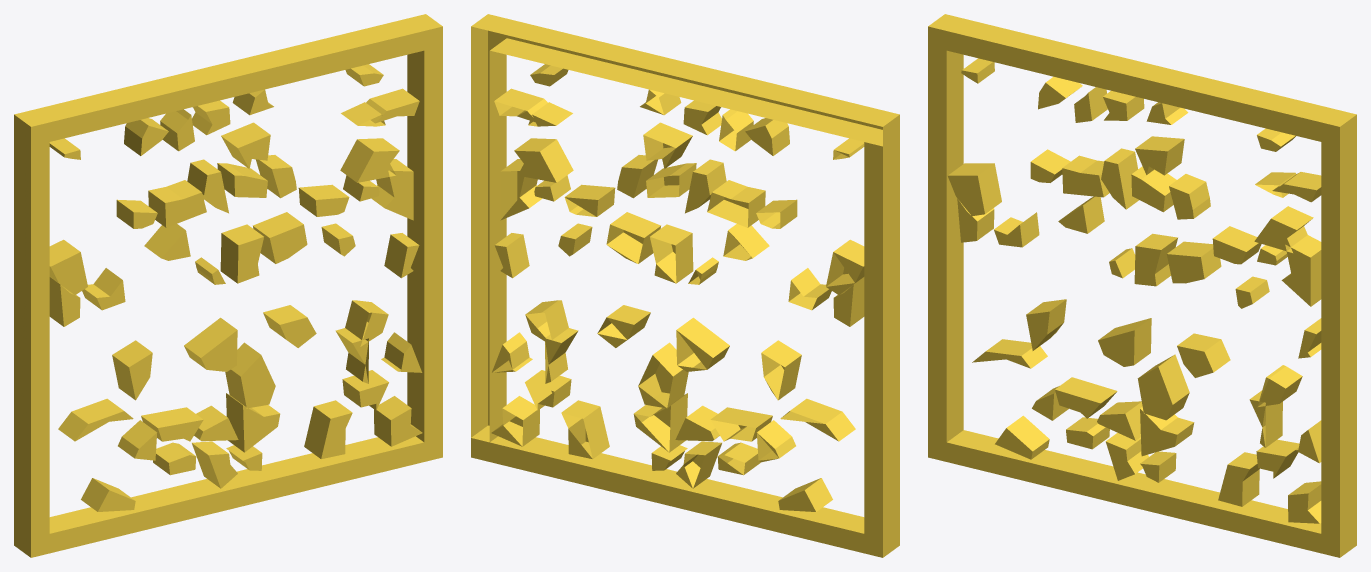
The model's file is Environment2D_RandomPolygons.dae.
3 views of the same model, side by side, from view 1: azimuth 30°, elevation 25°; view 2: azimuth 150°, elevation 25°; view 3: azimuth 330°, elevation 25° (orthographic).
Visible parts, largest first — view 1: instance_1 (×39); view 2: instance_1 (×39); view 3: instance_1 (×40).
Part boxes in pixels (box(x1,y1,x2,y2)): instance_1 (×39): box(14, 14, 442, 557); instance_1 (×39): box(471, 14, 899, 557); instance_1 (×40): box(928, 14, 1356, 557).
Bounding box in the file's own units: 1.1 × 0.0787 × 1.1.
